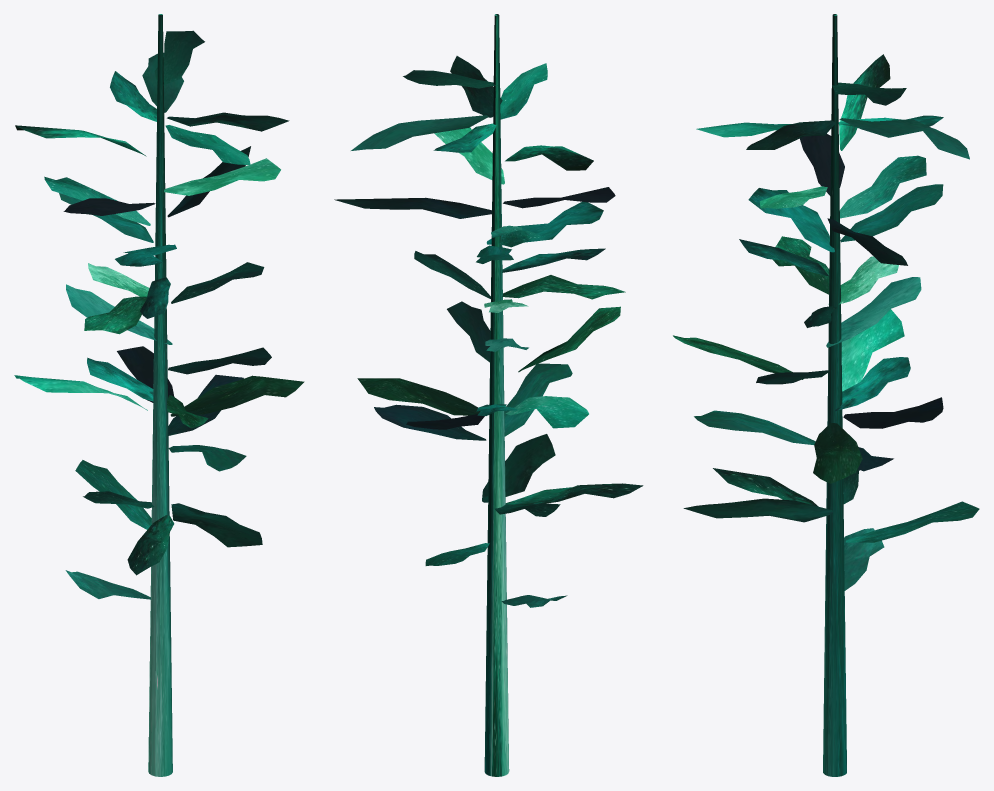
File: Seaweed_2.fbx
3 renders of one model, left to right at view 1: azimuth 30°, elevation 25°; view 2: azimuth 150°, elevation 25°; view 3: azimuth 270°, elevation 25°, orthographic.
Visible parts, largest first — view 1: Seaweed_2; view 2: Seaweed_2; view 3: Seaweed_2.
Boxes of the visible parts, x1,y1,x2,y2 form: Seaweed_2: (14,14,304,776); Seaweed_2: (334,14,643,776); Seaweed_2: (673,14,979,776).
Size of the model in its own units: 64.54 by 177 by 65.3.
Materials: 1 (1 with a texture image).
